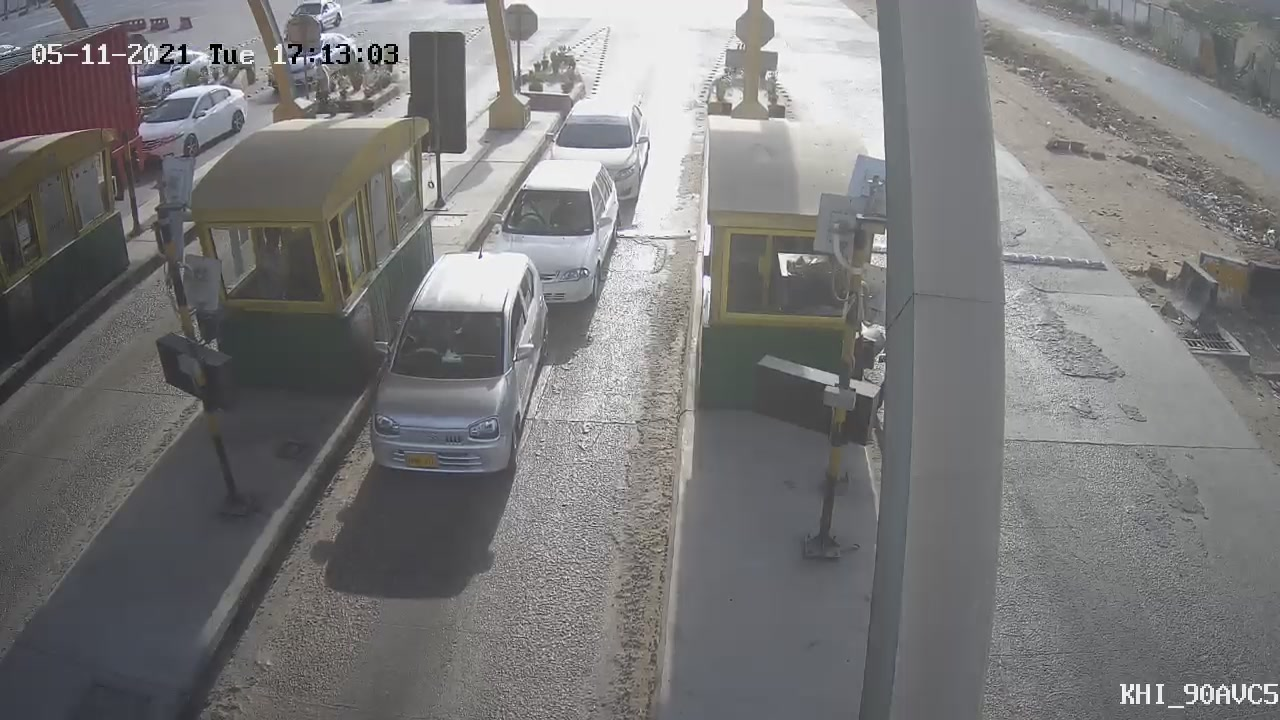F1: (346, 236, 569, 492), (466, 149, 634, 326)
